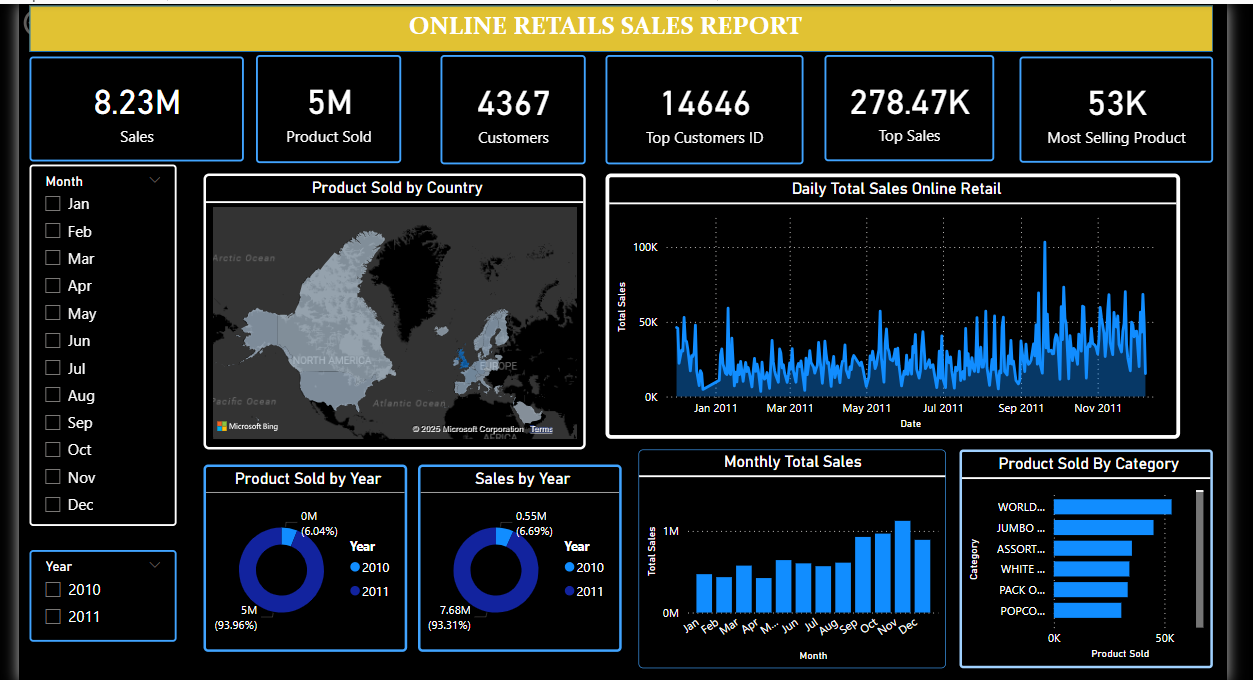

This screenshot's page, from the dashboard's own definition file:
{"tool":"powerbi","page":{"name":"Page 1","canvas":[1280,720],"ordinal":0},"visuals":[{"type":"slicer","fields":{"Values":["Online Retail.Year"]},"box":[11.1,579,155.9,97],"z":0},{"type":"actionButton","box":[0,0,100,40],"z":1000},{"type":"slicer","fields":{"Values":["Online Retail.Month Name"]},"box":[11.1,170.2,155.9,383.3],"z":2000},{"type":"card","fields":{"Values":["Online Retail.Sales"]},"box":[11.1,55.7,227.5,111.3],"z":3000},{"type":"card","fields":{"Values":["Online Retail.Product Sold"]},"box":[251.3,54.1,154.3,114.5],"z":4000},{"type":"card","fields":{"Values":["Online Retail.Customers"]},"box":[447,54.1,154.3,116.1],"z":5000},{"type":"card","fields":{"Values":["Min(Online Retail.CustomerID)"]},"box":[621.9,54.1,210,116.1],"z":6000},{"type":"card","fields":{"Values":["Online Retail.Sales"]},"box":[854.2,54.1,179.7,112.9],"z":7000},{"type":"columnChart","title":"Monthly Total Sales","fields":{"Category":["Online Retail.Month Name"],"Y":["Sum(Online Retail.Total Sales)"]},"box":[656.9,472.4,326.1,232.2],"z":8000},{"type":"clusteredBarChart","title":"Product Sold By Category","fields":{"Category":["Online Retail.Description"],"Y":["Online Retail.Product Sold"]},"box":[997.3,472.4,268.8,232.2],"z":9000},{"type":"stackedAreaChart","title":"Daily Total Sales Online Retail","fields":{"Category":["Online Retail.InvoiceDate.Variation.Date Hierarchy.Year","Online Retail.InvoiceDate.Variation.Date Hierarchy.Quarter","Online Retail.InvoiceDate.Variation.Date Hierarchy.Month","Online Retail.InvoiceDate.Variation.Date Hierarchy.Day"],"Y":["Sum(Online Retail.Total Sales)"]},"box":[621.9,179.7,609.2,281.5],"z":10000},{"type":"donutChart","fields":{"Y":["Online Retail.Product Sold"],"Category":["Online Retail.InvoiceDate.Variation.Date Hierarchy.Year"]},"box":[195.6,488.3,216.3,198.8],"z":11000},{"type":"donutChart","fields":{"Category":["Online Retail.InvoiceDate.Variation.Date Hierarchy.Year"],"Y":["Online Retail.Sales"]},"box":[423.1,488.3,216.3,198.8],"z":12000},{"type":"shape","box":[11.1,1.6,1255,49.3],"z":13000},{"type":"textbox","box":[389.7,1.6,464.5,50.9],"z":14000},{"type":"card","fields":{"Values":["Sum(Online Retail.Quantity)"]},"box":[1060.9,55.7,205.2,112.9],"z":15000},{"type":"filledMap","fields":{"Category":["Online Retail.Country"]},"box":[195.6,179.7,405.6,292.7],"z":15001}]}

Visuals, with their boxes in screenshot pixels (x1, y1, x2, y2):
slicer - Online Retail.Year: {"x1": 24, "y1": 558, "x2": 174, "y2": 652}
actionButton: {"x1": 13, "y1": 0, "x2": 109, "y2": 39}
slicer - Online Retail.Month Name: {"x1": 24, "y1": 164, "x2": 174, "y2": 533}
card - Online Retail.Sales: {"x1": 24, "y1": 54, "x2": 243, "y2": 161}
card - Online Retail.Product Sold: {"x1": 255, "y1": 52, "x2": 404, "y2": 162}
card - Online Retail.Customers: {"x1": 444, "y1": 52, "x2": 593, "y2": 164}
card - Min(Online Retail.CustomerID): {"x1": 612, "y1": 52, "x2": 815, "y2": 164}
card - Online Retail.Sales: {"x1": 836, "y1": 52, "x2": 1010, "y2": 161}
"Monthly Total Sales" columnChart: {"x1": 646, "y1": 455, "x2": 960, "y2": 679}
"Product Sold By Category" clusteredBarChart: {"x1": 974, "y1": 455, "x2": 1233, "y2": 679}
"Daily Total Sales Online Retail" stackedAreaChart: {"x1": 612, "y1": 173, "x2": 1200, "y2": 444}
donutChart - Online Retail.Product Sold x Online Retail.InvoiceDate.Variation.Date Hierarchy.Year: {"x1": 202, "y1": 471, "x2": 410, "y2": 662}
donutChart - Online Retail.InvoiceDate.Variation.Date Hierarchy.Year x Online Retail.Sales: {"x1": 421, "y1": 471, "x2": 629, "y2": 662}
shape: {"x1": 24, "y1": 2, "x2": 1233, "y2": 49}
textbox: {"x1": 389, "y1": 2, "x2": 836, "y2": 51}
card - Sum(Online Retail.Quantity): {"x1": 1036, "y1": 54, "x2": 1233, "y2": 162}
filledMap - Online Retail.Country: {"x1": 202, "y1": 173, "x2": 592, "y2": 455}
